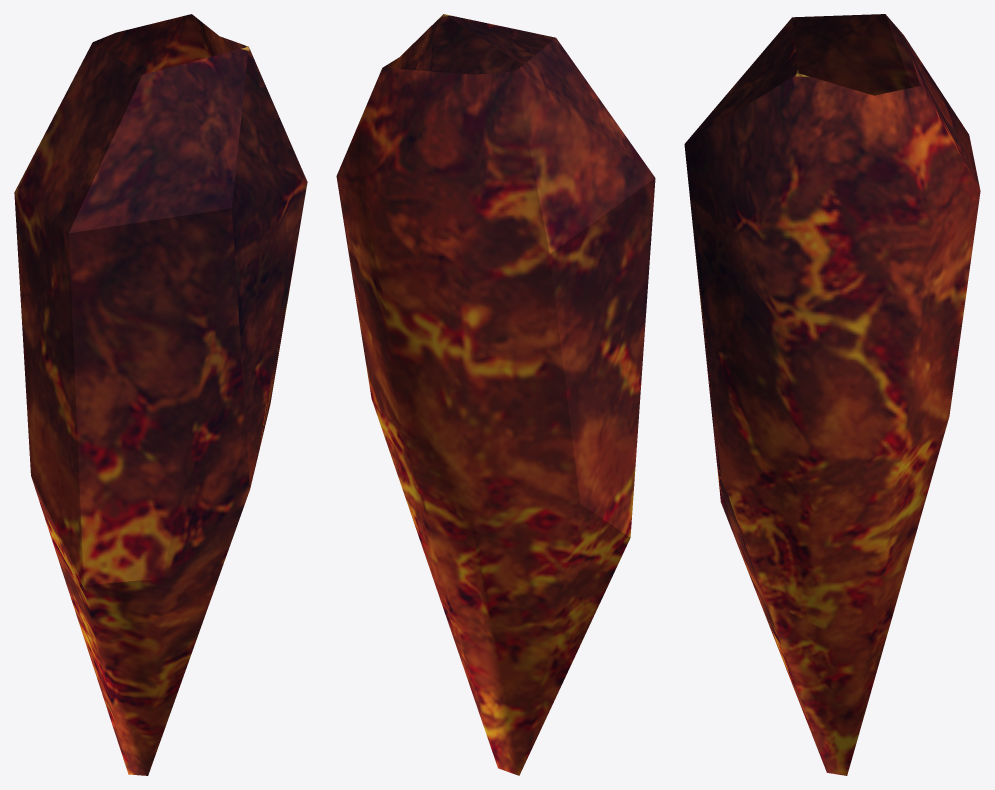
Rendered from Scene_rongyan_002.FBX.
3 views of the same model, side by side, from view 1: azimuth 30°, elevation 25°; view 2: azimuth 150°, elevation 25°; view 3: azimuth 270°, elevation 25° (orthographic). The views are drawn at different scales.
Parts seen in each view (by area): view 1: Scene_rongyan_002; view 2: Scene_rongyan_002; view 3: Scene_rongyan_002.
Part boxes in pixels (bbox=[...]): Scene_rongyan_002: bbox=[14, 14, 307, 775]; Scene_rongyan_002: bbox=[336, 14, 655, 775]; Scene_rongyan_002: bbox=[684, 14, 980, 775].
Bounding box in the file's own units: 3.56 × 10.29 × 3.69.
